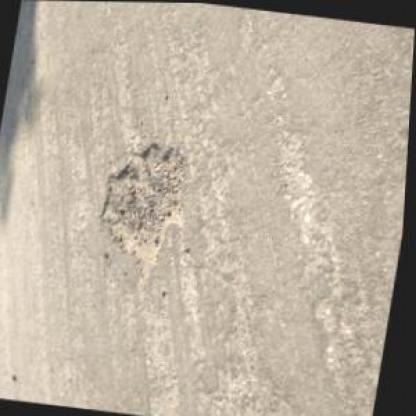pothole: (90, 132, 201, 282)
